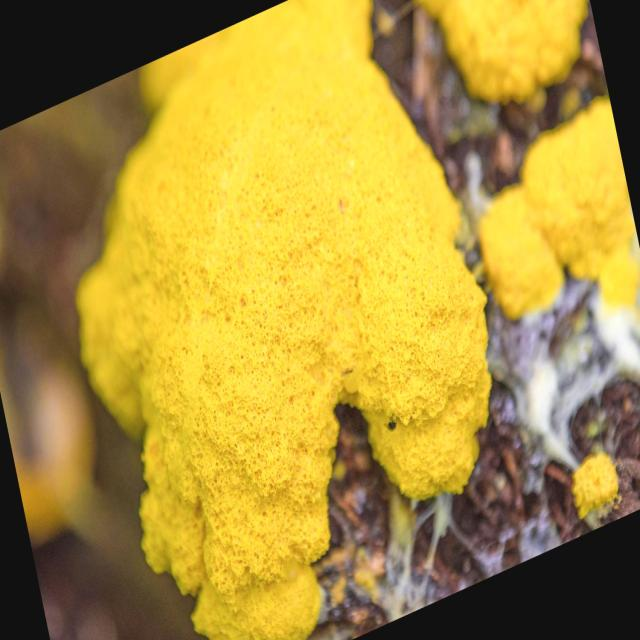Dog_vomit_slime_mold: (30, 0, 638, 633)
